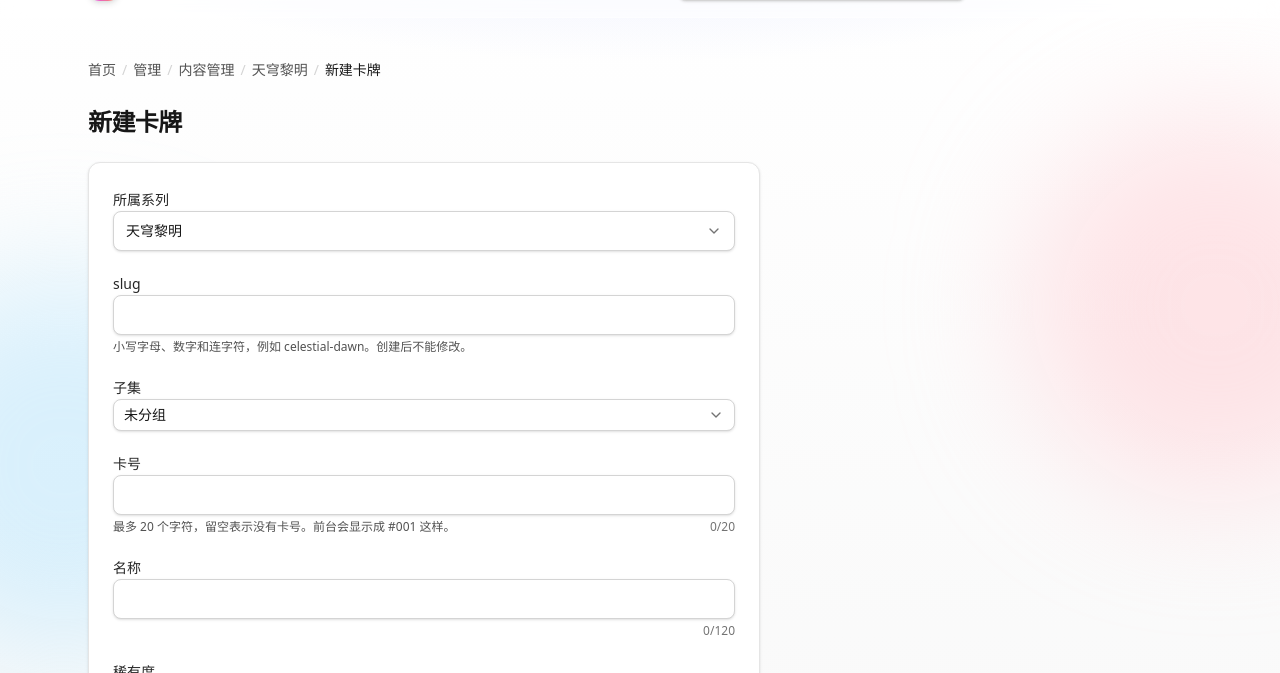
Test: card form server validation › translates an over-long attribute value from the server onto the attributes field
The width and height of the screenshot is (1280, 673).
Type "aurora-knight" into the field labelled "slug". click: (424, 315)
box: [113,295,735,335]
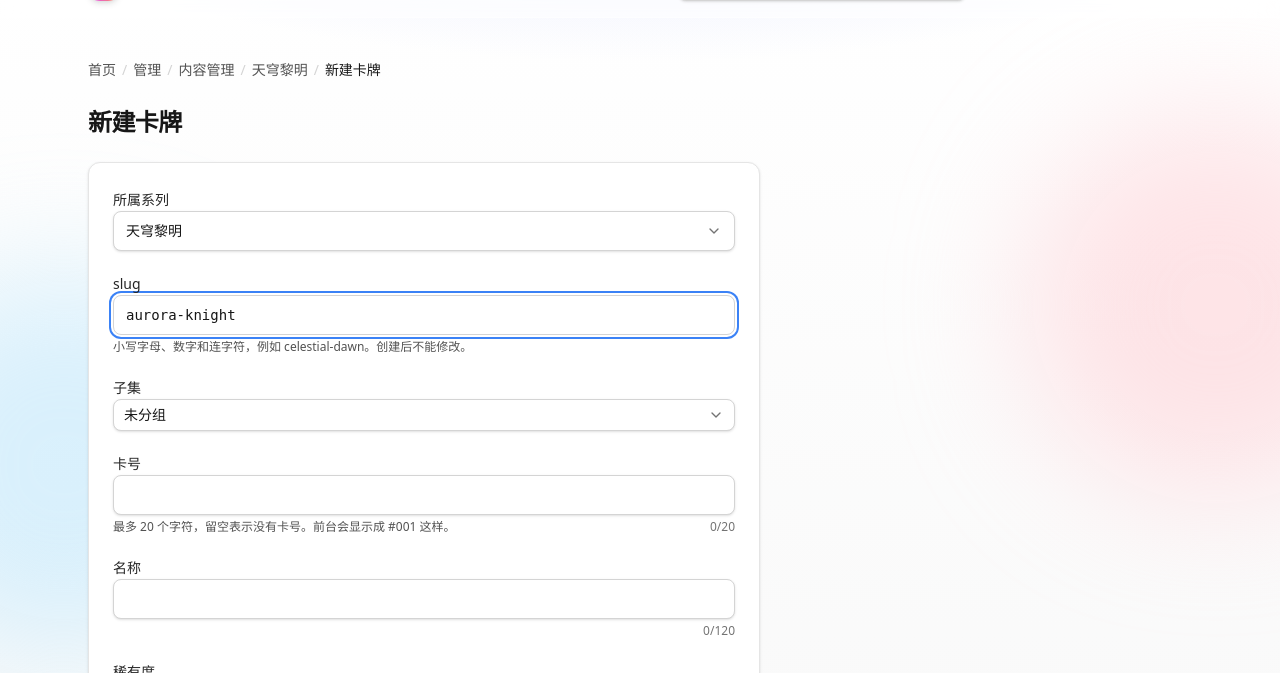
Type "极光骑士" into the field labelled "名称". click: (424, 599)
box: [113,579,735,619]
(page scrolled)
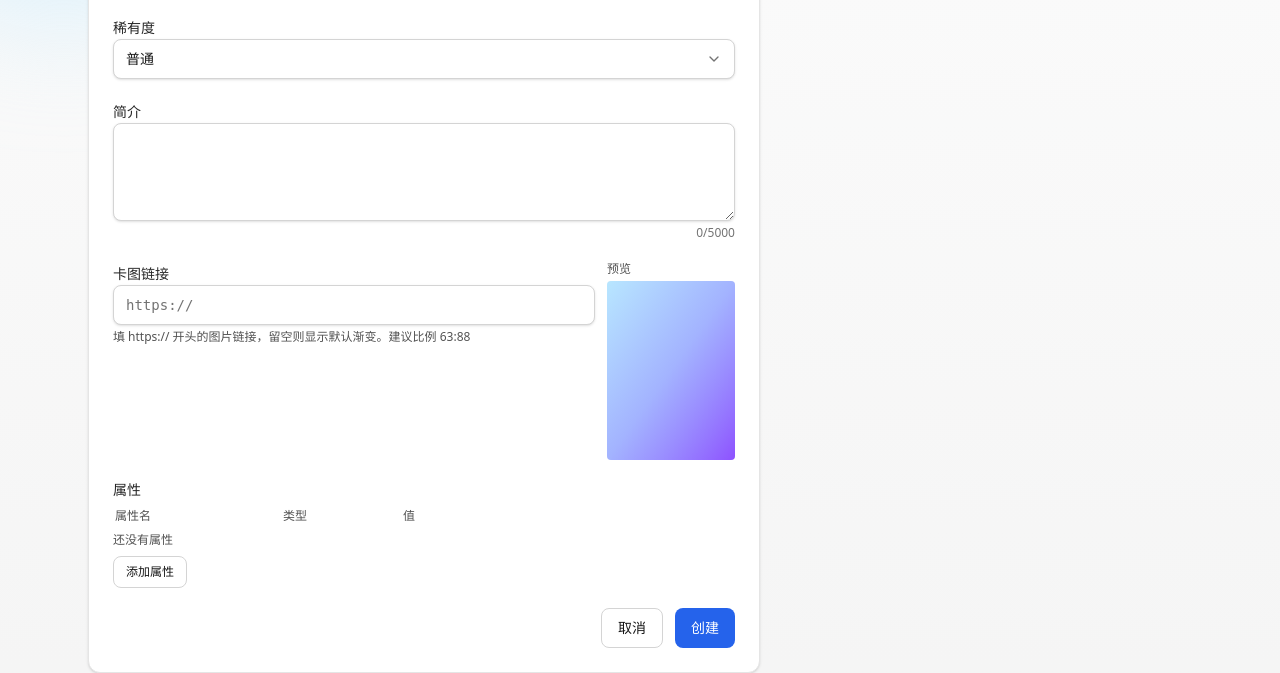
Click the button "创建". click: click(705, 628)
box: [675,608,735,648]
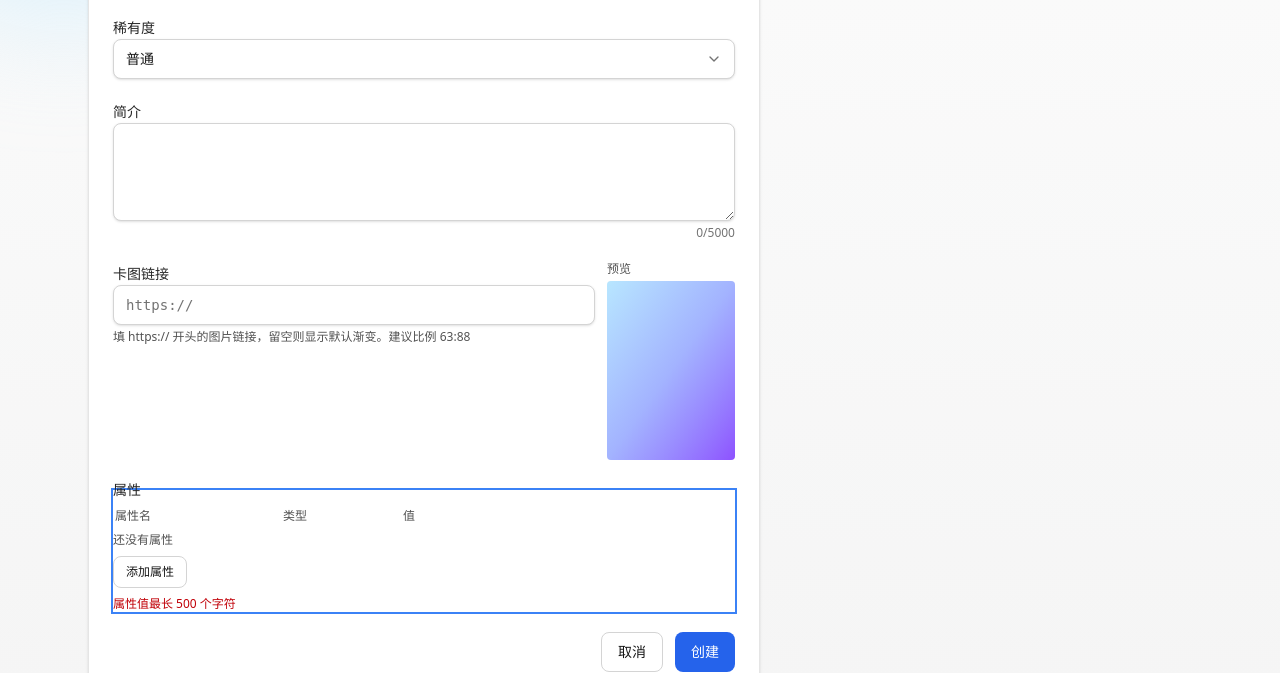
Result: the element with id "card-attributes" shows "属性值最长 500 个字符" at [113,595,236,612]
